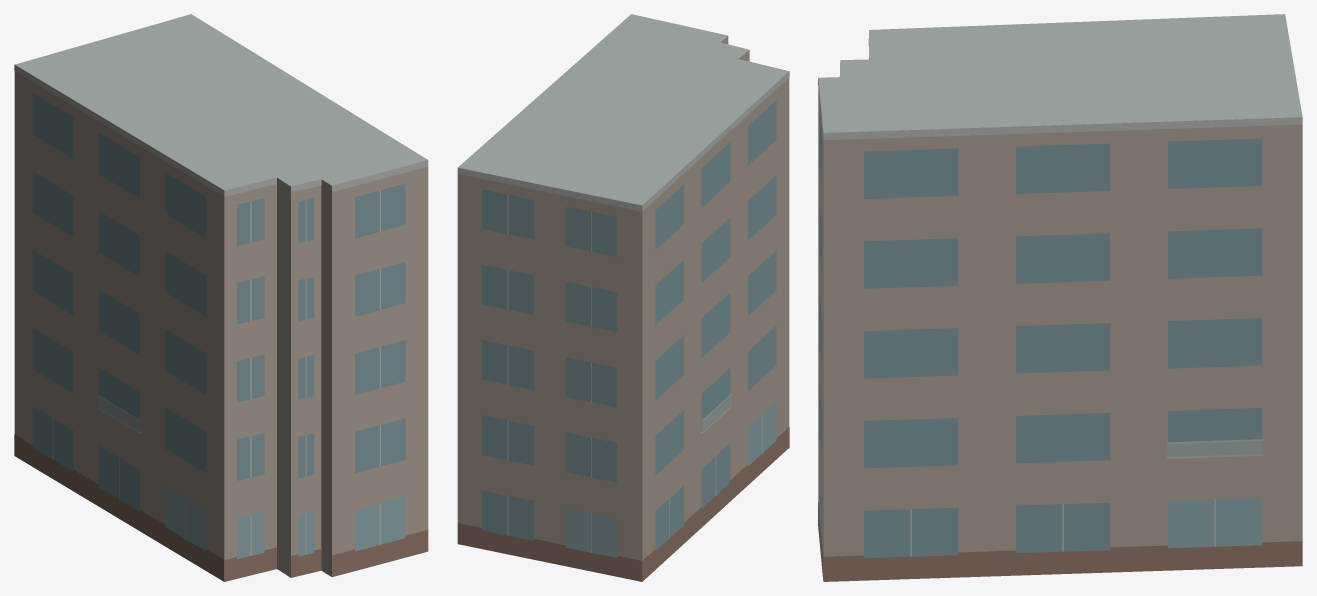
The model's file is survey-upis-32724806.glb.
3 renders of one model, left to right at view 1: azimuth 30°, elevation 25°; view 2: azimuth 150°, elevation 25°; view 3: azimuth 270°, elevation 25°, orthographic. The views are drawn at different scales.
Visible parts, largest first — view 1: survey-upis-32724806.tmp; view 2: survey-upis-32724806.tmp; view 3: survey-upis-32724806.tmp.
Part boxes in pixels (<box>): survey-upis-32724806.tmp: <box>14,14,428,581</box>; survey-upis-32724806.tmp: <box>457,14,789,581</box>; survey-upis-32724806.tmp: <box>818,14,1302,581</box>.
Bounding box in the file's own units: 8.48 × 14.9 × 14.58.
